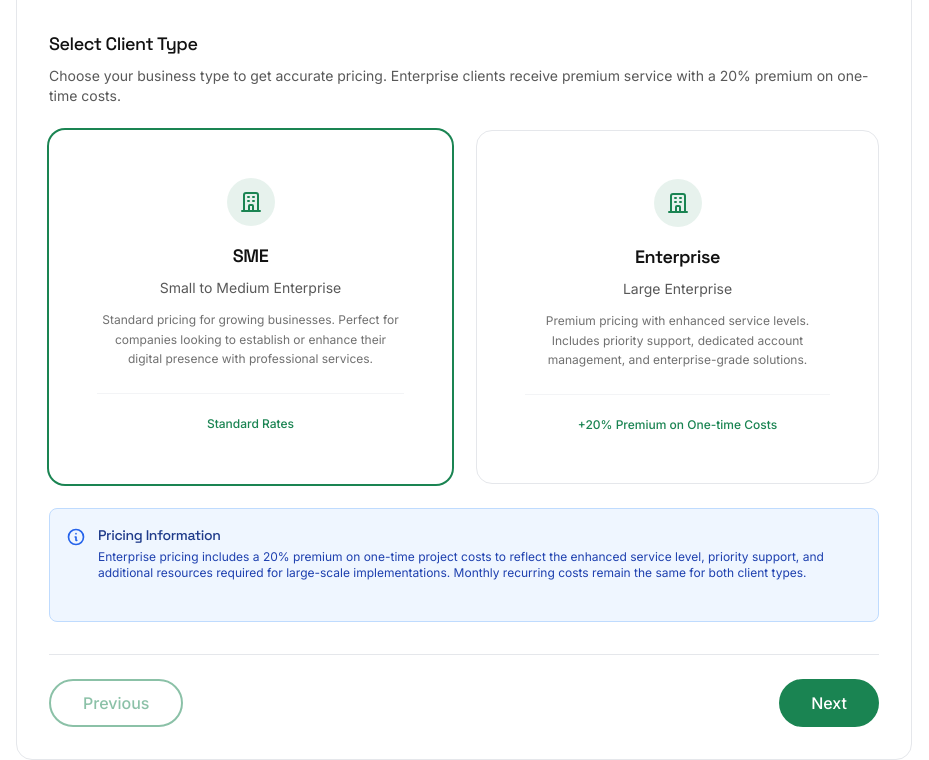
Test: PricingCalculator UI Components › Step Navigation and Progress Indicator › should navigate between steps correctly
The image size is (929, 760).
(page scrolled)
Expected: the heading "Select Client Type" is shown, [49, 32, 198, 55]
Navigate to step 2
What coordinates should you click on to do the following:
click the button "Next"
I would click on:
 (829, 702)
Its box is [779, 678, 879, 726].
(page scrolled)
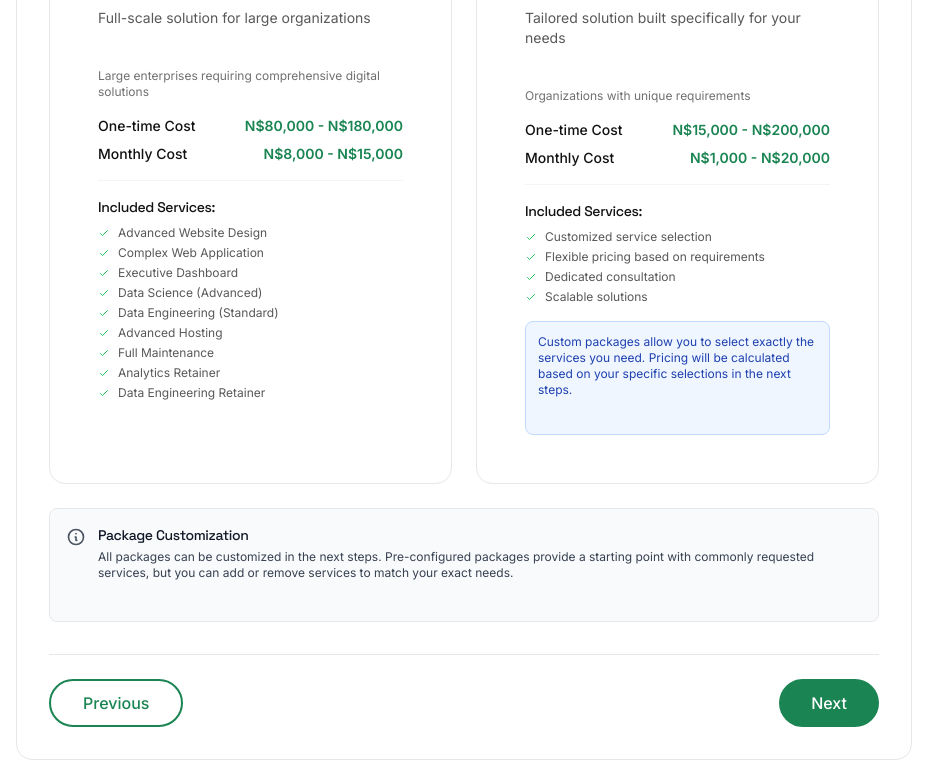
Navigate back to step 1
What coordinates should you click on to do the following:
click the button "Previous"
I would click on:
 (116, 703)
Its box is [49, 679, 183, 727].
(page scrolled)
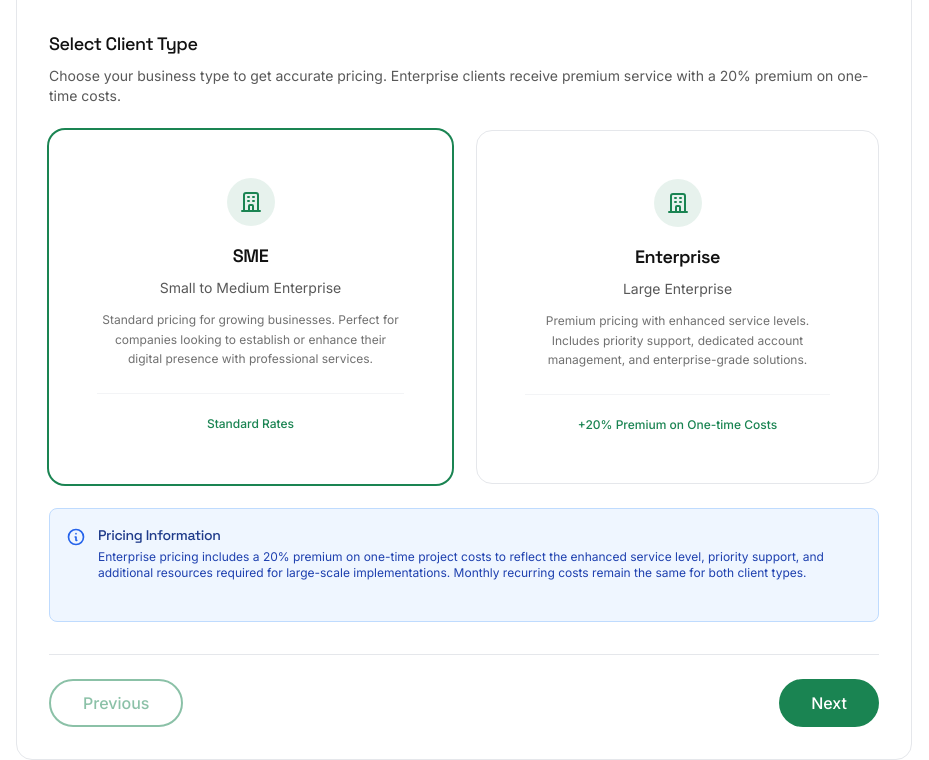
Expected: the heading "Select Client Type" is shown, [49, 32, 198, 55]
